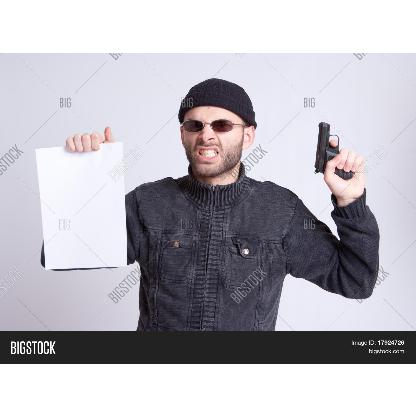gun: (314, 120, 356, 180)
